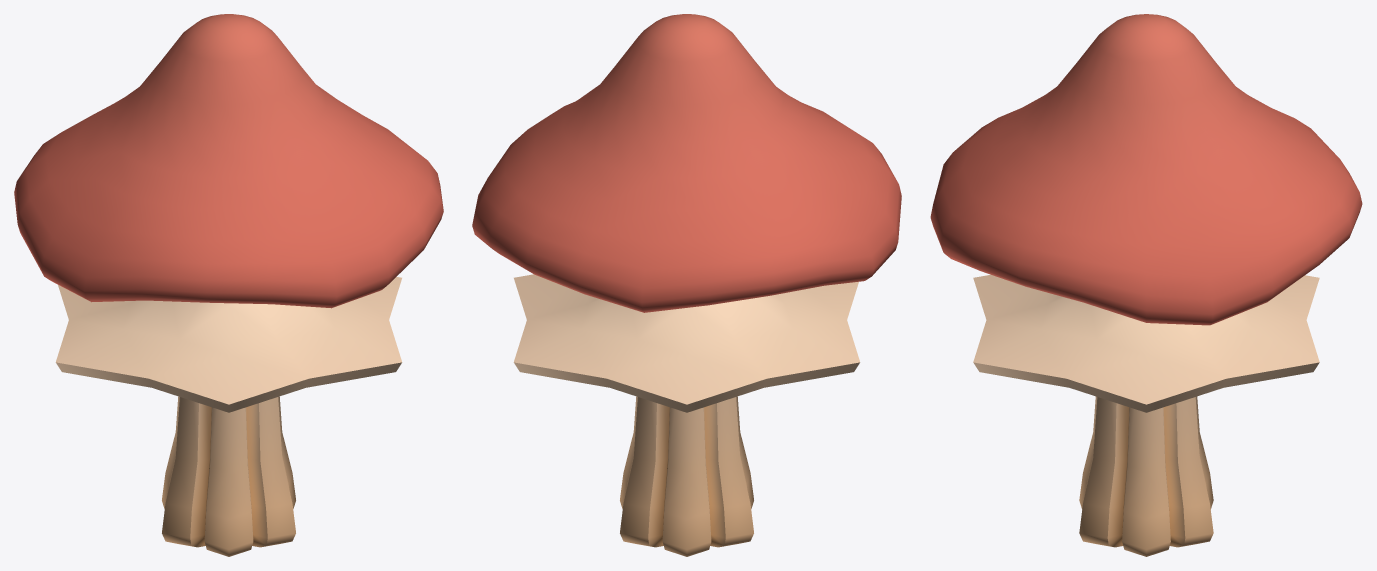
The model's file is Mushroom2.fbx.
The picture shows the model from 3 angles, left to right: view 1: azimuth 30°, elevation 25°; view 2: azimuth 150°, elevation 25°; view 3: azimuth 270°, elevation 25°; orthographic projection.
Parts seen in each view (by area): view 1: Mushroom2; view 2: Mushroom2; view 3: Mushroom2.
Boxes of the visible parts, x1,y1,x2,y2 form: Mushroom2: (14,14,443,556); Mushroom2: (472,14,901,556); Mushroom2: (930,14,1362,556).
Bounding box in the file's own units: 598 × 780 × 598.
